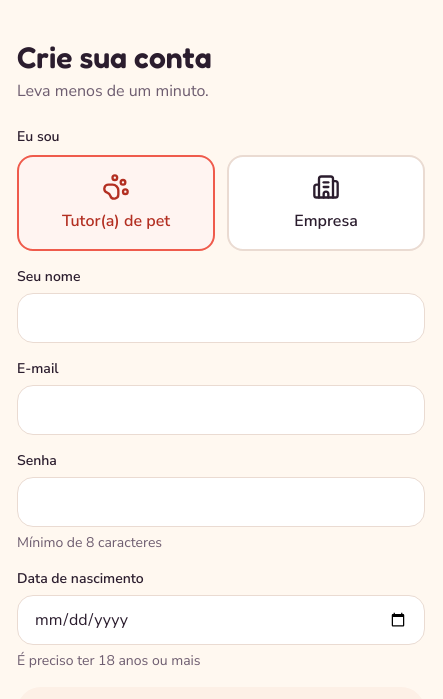
cadastro › mostra os campos da empresa só para o papel empresa
Expected: the field labelled "CNPJ" is not shown
Click the radio button labelled "Empresa".
click(326, 203)  # box [227,155,425,251]
(page scrolled)
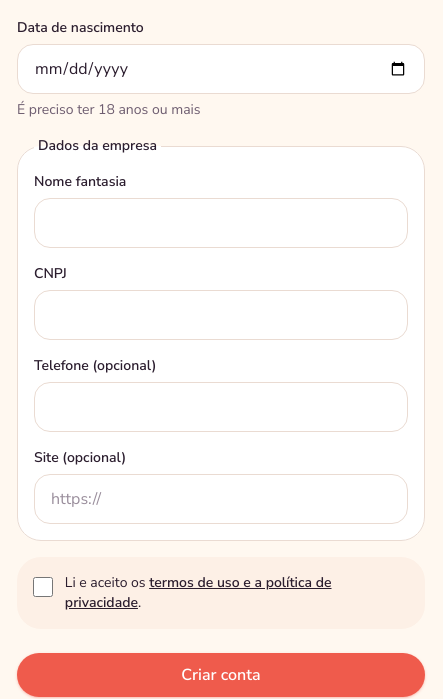
Expected: the field labelled "CNPJ" is shown, [34,290,408,340]
